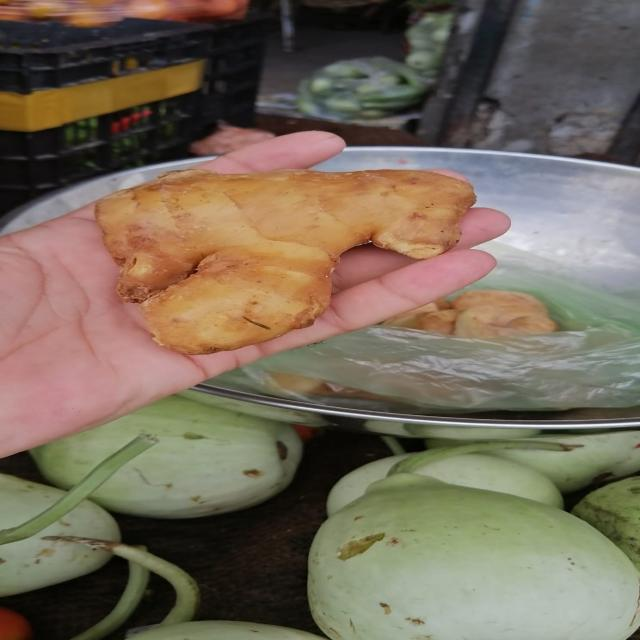ginger: (90, 170, 456, 346)
